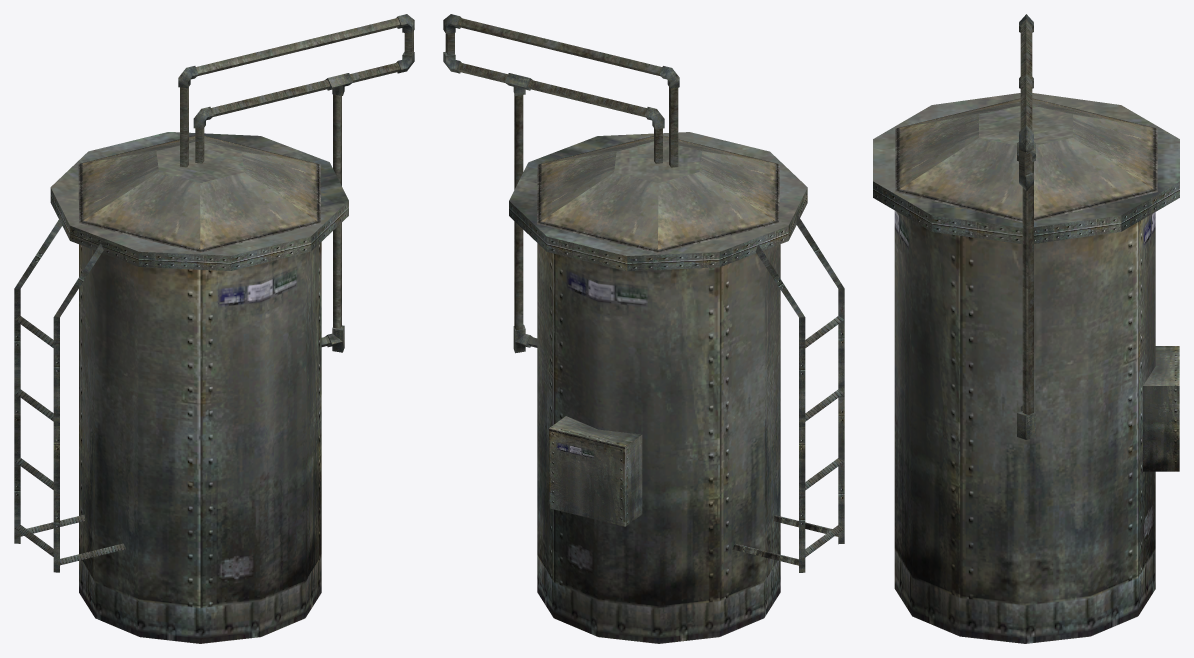
The model's file is boiler01.fbx.
3 views of the same model, side by side, from view 1: azimuth 30°, elevation 25°; view 2: azimuth 150°, elevation 25°; view 3: azimuth 270°, elevation 25° (orthographic). The views are drawn at different scales.
Visible parts, largest first — view 1: mesh_0, mesh_1; view 2: mesh_0, mesh_1; view 3: mesh_0, mesh_1.
Boxes of the visible parts, left/top/right/bottom form: mesh_0: left=14, top=14, right=414, bottom=643; mesh_1: left=180, top=18, right=413, bottom=328; mesh_0: left=443, top=14, right=844, bottom=643; mesh_1: left=445, top=18, right=678, bottom=330; mesh_0: left=873, top=14, right=1179, bottom=643; mesh_1: left=1019, top=20, right=1033, bottom=415.
Bounding box in the file's own units: 250 × 331 × 162.
Materials: 2 (2 with a texture image).
